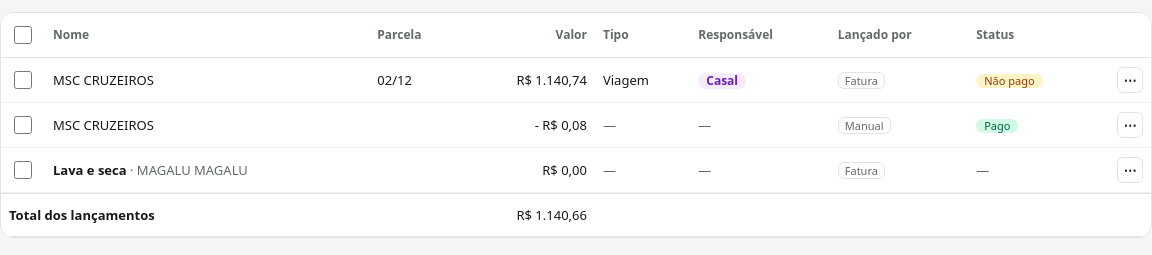
Test: painel do Lançamento e seleção (História 2.7) › clique direito (ou toque longo) no corpo abre o menu Abrir / Excluir sem abrir o painel
Right-click the cell "R$ 1.140,74" at (528, 80), box [462,58,595,103]
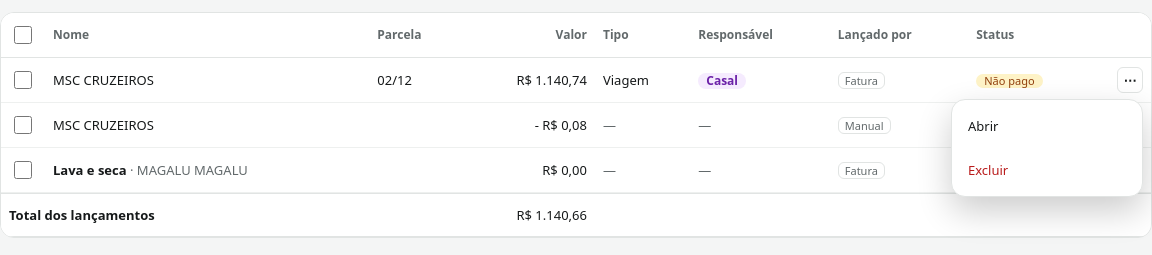
expect the menu item "Abrir" is shown: met, box [968,117,998,135]
expect the menu item "Excluir" is shown: met, box [968,161,1008,179]
